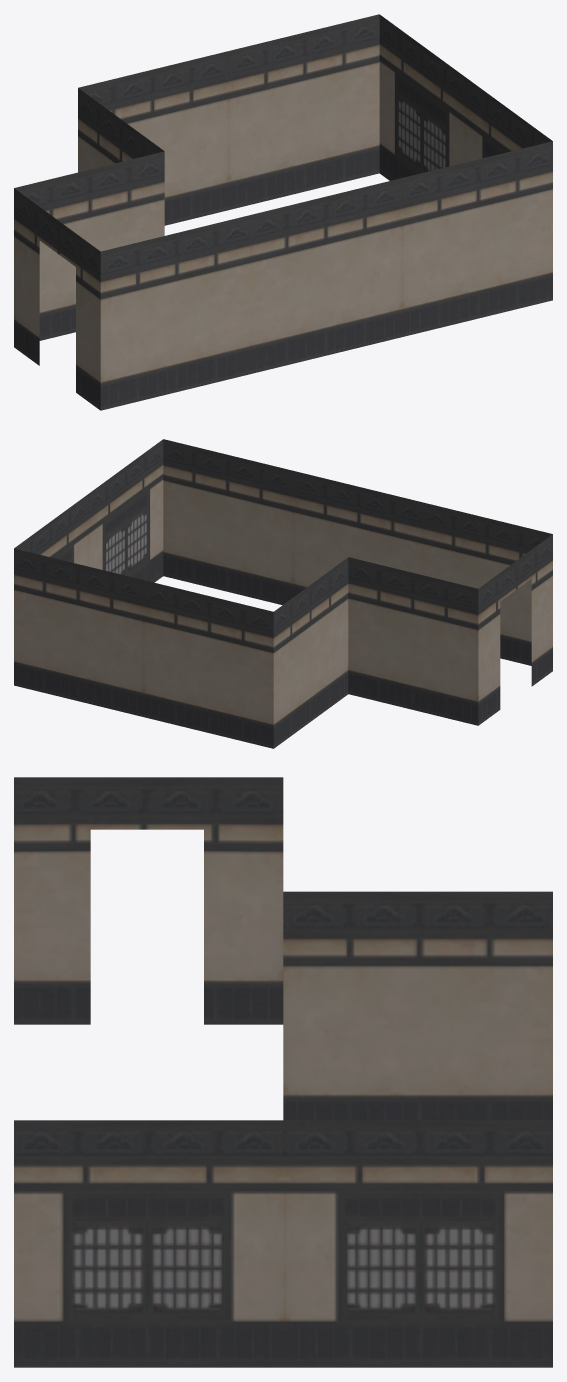
Rendered from Homeworld_Interior_Dq_Room_G_Filling_01_Vo.fbx.
3 views of the same model, one above another, from view 1: azimuth 30°, elevation 25°; view 2: azimuth 150°, elevation 25°; view 3: azimuth 270°, elevation 25° (orthographic). The views are drawn at different scales.
Visible parts, largest first — view 1: Homeworld_Interior_Dq_Room_G_Filling_01_Vo; view 2: Homeworld_Interior_Dq_Room_G_Filling_01_Vo; view 3: Homeworld_Interior_Dq_Room_G_Filling_01_Vo.
Boxes of the visible parts, box(x1,y1,x2,y2) form: Homeworld_Interior_Dq_Room_G_Filling_01_Vo: box(14, 14, 552, 410); Homeworld_Interior_Dq_Room_G_Filling_01_Vo: box(14, 439, 552, 748); Homeworld_Interior_Dq_Room_G_Filling_01_Vo: box(14, 777, 552, 1367).
Bounding box in the file's own units: 14.81 × 4.98 × 9.84.
